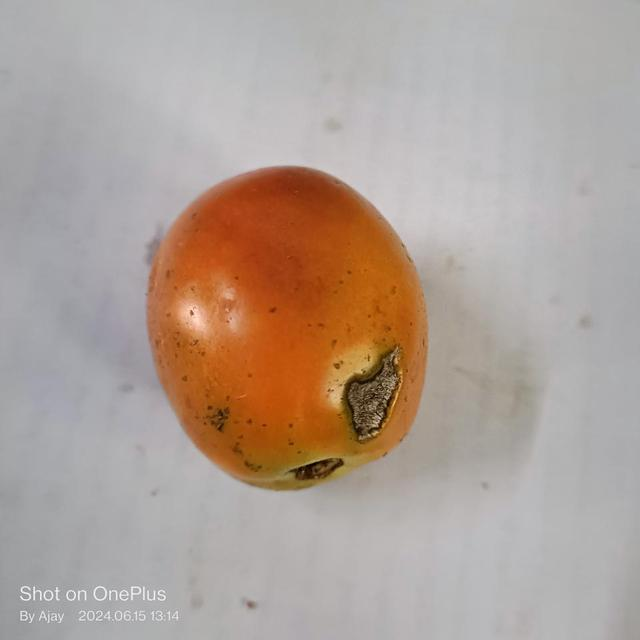Bacterial Spot Fruit: (19, 18, 248, 277)
